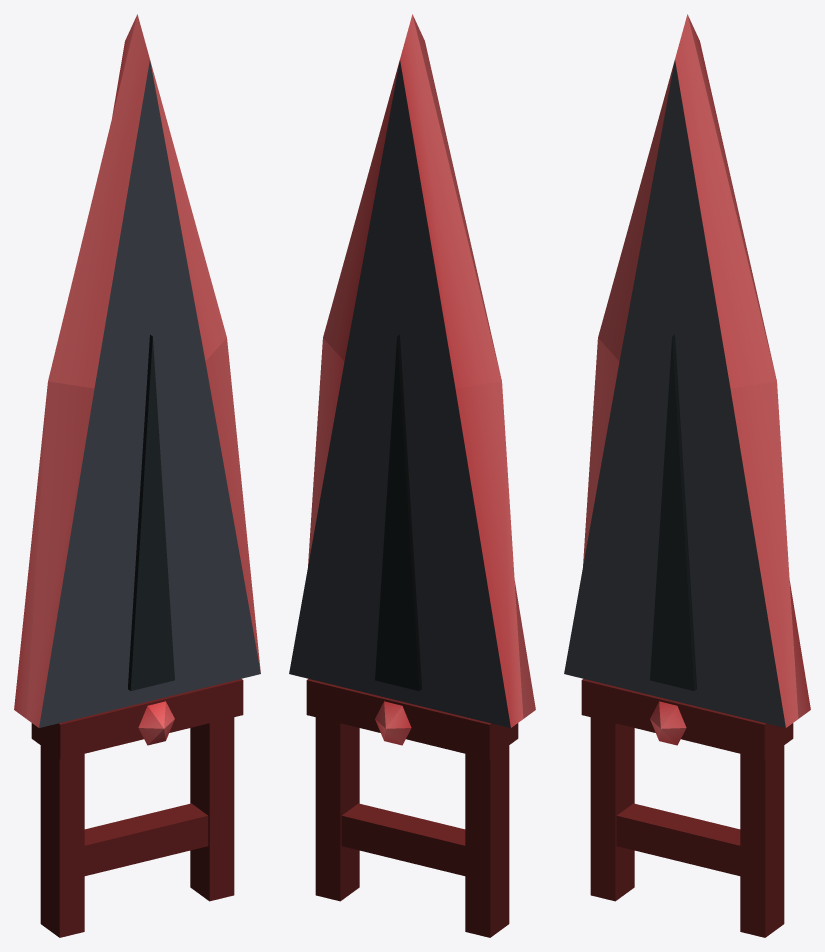
Rendered from rogue_katars_3.gltf.
The picture shows the model from 3 angles, left to right: view 1: azimuth 30°, elevation 25°; view 2: azimuth 150°, elevation 25°; view 3: azimuth 330°, elevation 25°; orthographic projection.
Parts seen in each view (by area): view 1: rogue_katars_3; view 2: rogue_katars_3; view 3: rogue_katars_3.
Boxes of the visible parts, <box> form: rogue_katars_3: <box>14,14,260,937</box>; rogue_katars_3: <box>289,14,535,937</box>; rogue_katars_3: <box>564,14,810,937</box>.
Size of the model in its own units: 0.2668 by 1.03 by 0.1108.
1 material, 1 textured.
